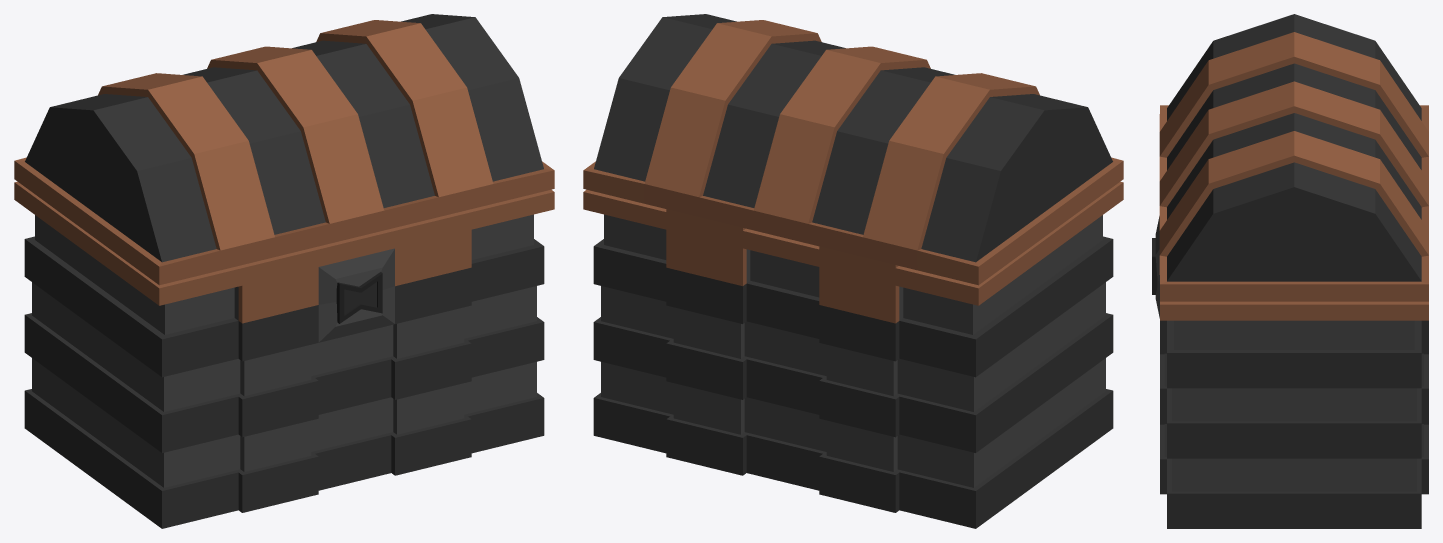
The model's file is ChestV3.glb.
3 renders of one model, left to right at view 1: azimuth 30°, elevation 25°; view 2: azimuth 150°, elevation 25°; view 3: azimuth 270°, elevation 25°, orthographic. The views are drawn at different scales.
Parts seen in each view (by area): view 1: ChestV3, ChestV3_Top, ChestV3_Lock; view 2: ChestV3, ChestV3_Top; view 3: ChestV3_Top, ChestV3.
Boxes of the visible parts, <box> form: ChestV3: <box>14,181,554,528</box>; ChestV3_Top: <box>14,14,554,285</box>; ChestV3_Lock: <box>336,272,382,323</box>; ChestV3: <box>583,181,1123,528</box>; ChestV3_Top: <box>583,14,1123,285</box>; ChestV3_Top: <box>1159,14,1428,301</box>; ChestV3: <box>1155,216,1428,528</box>.
Bounding box in the file's own units: 75.58 × 68.65 × 49.41.
Materials: 1 (1 with a texture image).
